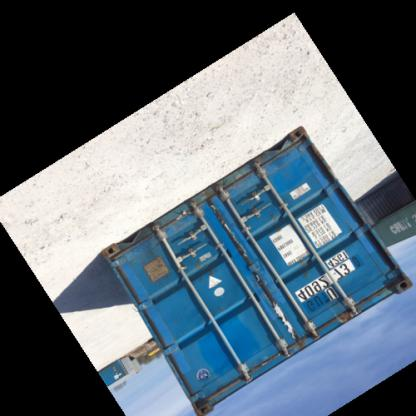Damage: (156, 194, 206, 244), (269, 300, 299, 354), (240, 256, 268, 292)
